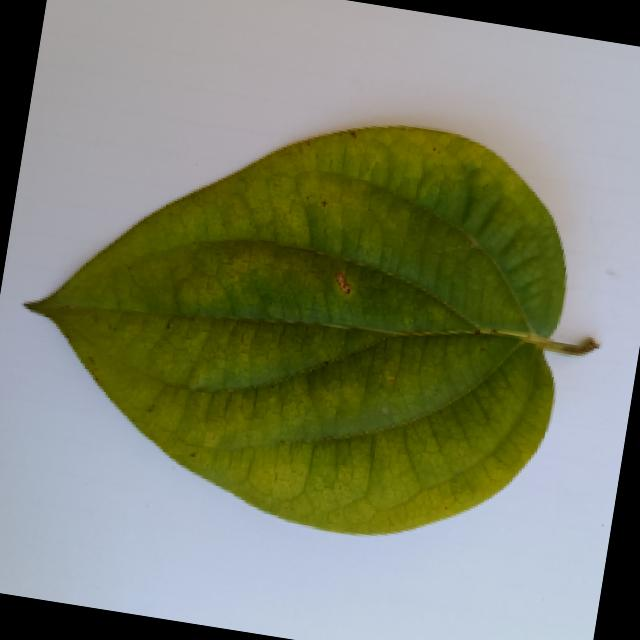slow-decline: (0, 66, 639, 632)
